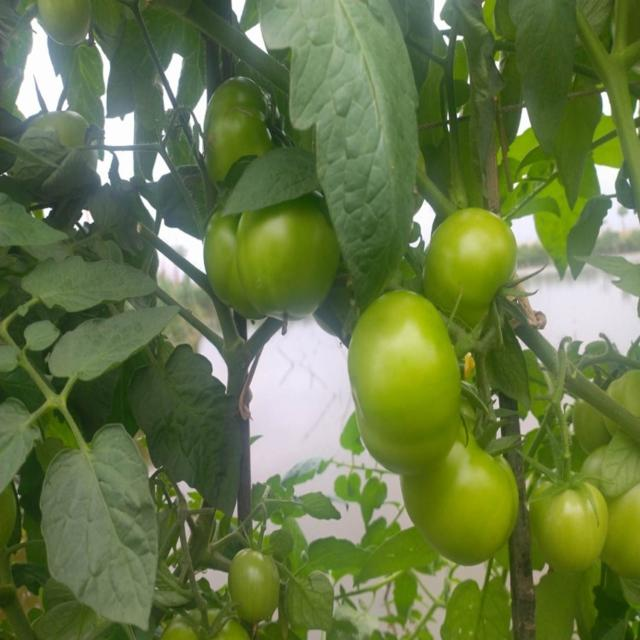tomato: (355, 292, 457, 471), (409, 422, 521, 571), (239, 198, 337, 319), (424, 206, 520, 326), (533, 475, 611, 577), (204, 76, 274, 185), (584, 446, 640, 579), (33, 109, 102, 167), (206, 211, 247, 305), (231, 546, 278, 622), (165, 604, 248, 640), (34, 3, 97, 48), (570, 393, 609, 450), (608, 371, 640, 431)
